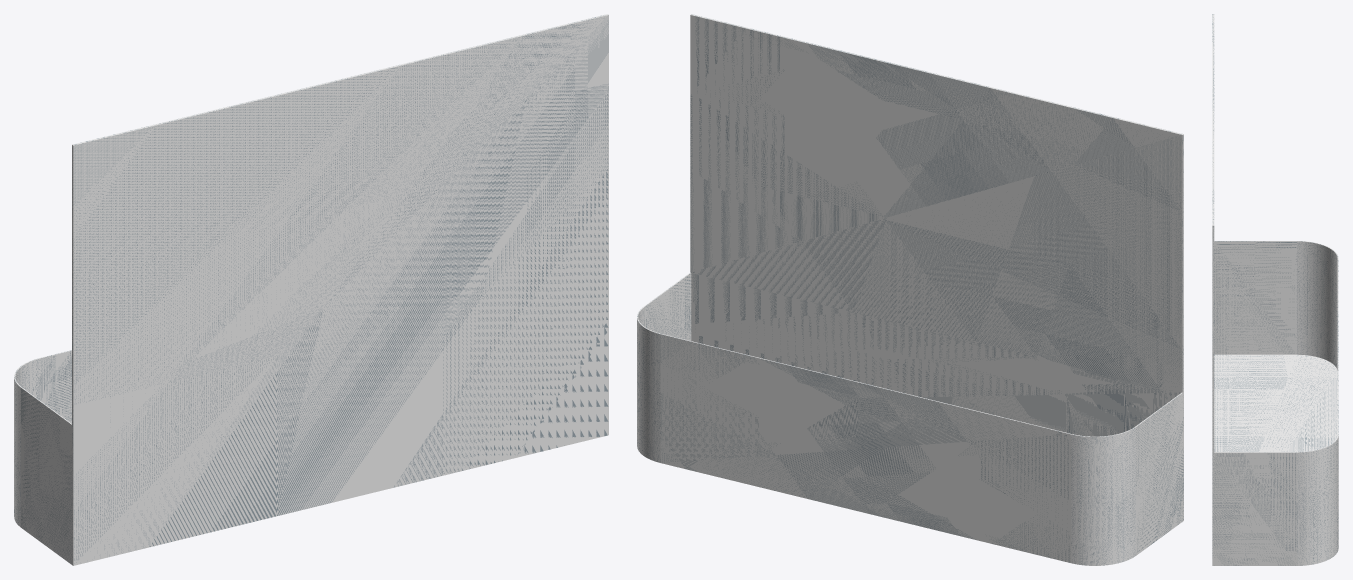
Rendered from 13_IconicBox_2_600-0x450-0x151-3.dae.
3 views of the same model, side by side, from view 1: azimuth 30°, elevation 25°; view 2: azimuth 150°, elevation 25°; view 3: azimuth 270°, elevation 25° (orthographic). The views are drawn at different scales.
Visible parts, largest first — view 1: SketchUp; view 2: SketchUp; view 3: SketchUp.
Boxes of the visible parts, left/top/right/bottom form: SketchUp: left=14, top=14, right=608, bottom=565; SketchUp: left=637, top=14, right=1183, bottom=565; SketchUp: left=1212, top=14, right=1338, bottom=565.
Bounding box in the file's own units: 23.62 × 5.96 × 17.72.
